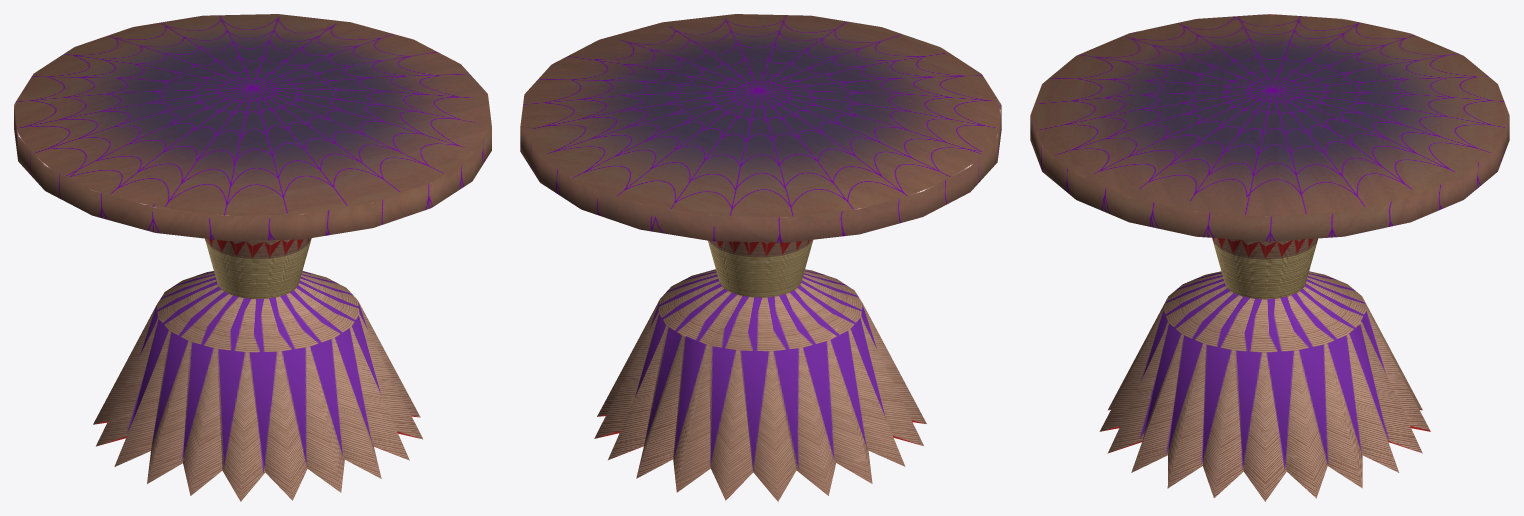
File: Bumper.fbx
3 views of the same model, side by side, from view 1: azimuth 30°, elevation 25°; view 2: azimuth 150°, elevation 25°; view 3: azimuth 270°, elevation 25° (orthographic).
Parts seen in each view (by area): view 1: polySurface2, polySurface1; view 2: polySurface2, polySurface1; view 3: polySurface2, polySurface1.
Part boxes in pixels (bbox=[...]): polySurface2: bbox=[14, 14, 491, 240]; polySurface1: bbox=[93, 238, 422, 501]; polySurface2: bbox=[520, 14, 1001, 242]; polySurface1: bbox=[594, 239, 926, 501]; polySurface2: bbox=[1030, 14, 1509, 241]; polySurface1: bbox=[1099, 238, 1430, 501].
Bounding box in the file's own units: 6.18 × 5.03 × 6.18.
